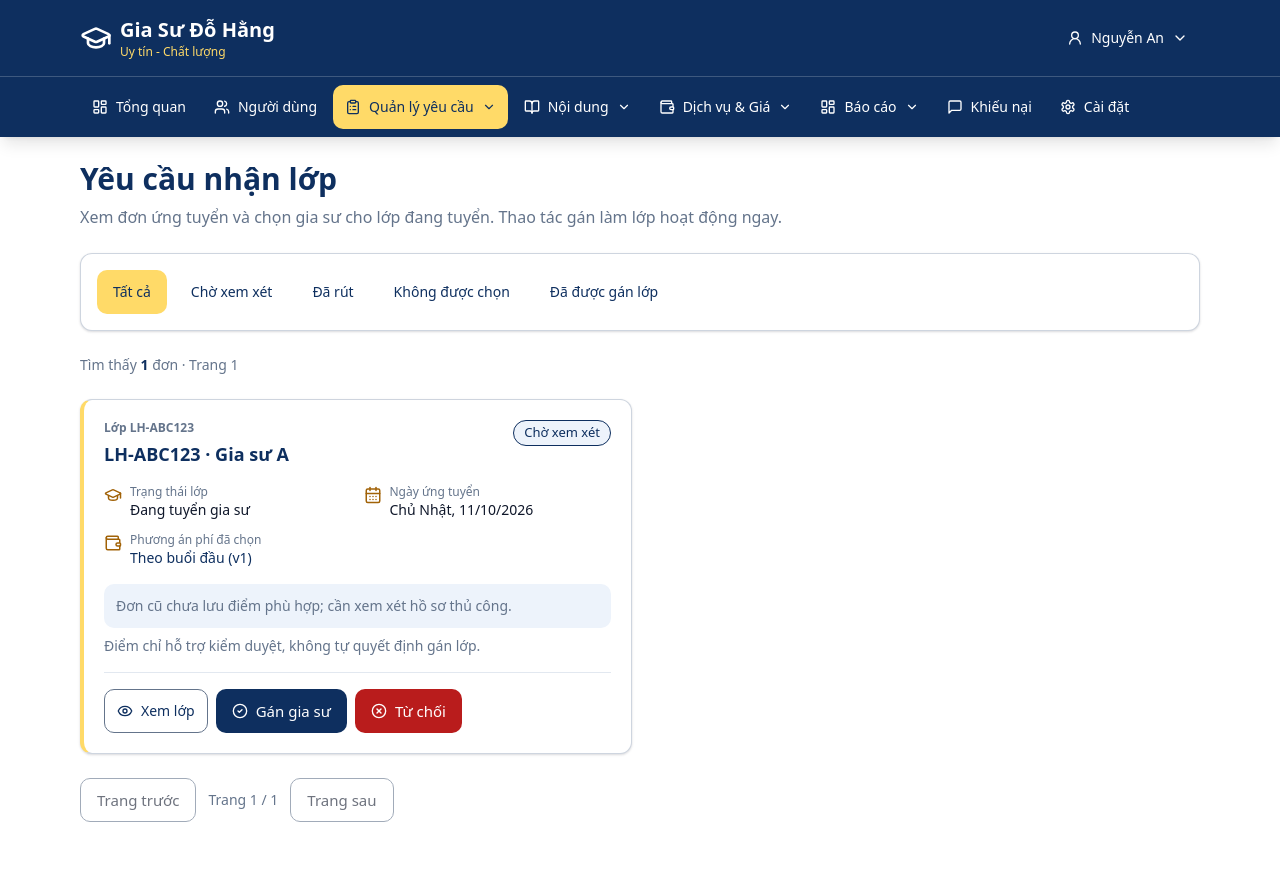
agreed tuition UI › requires a tuition amount and confirmation before assigning a tutor
Click the button "Gán gia sư".
click(281, 711)  # box [216,689,347,733]
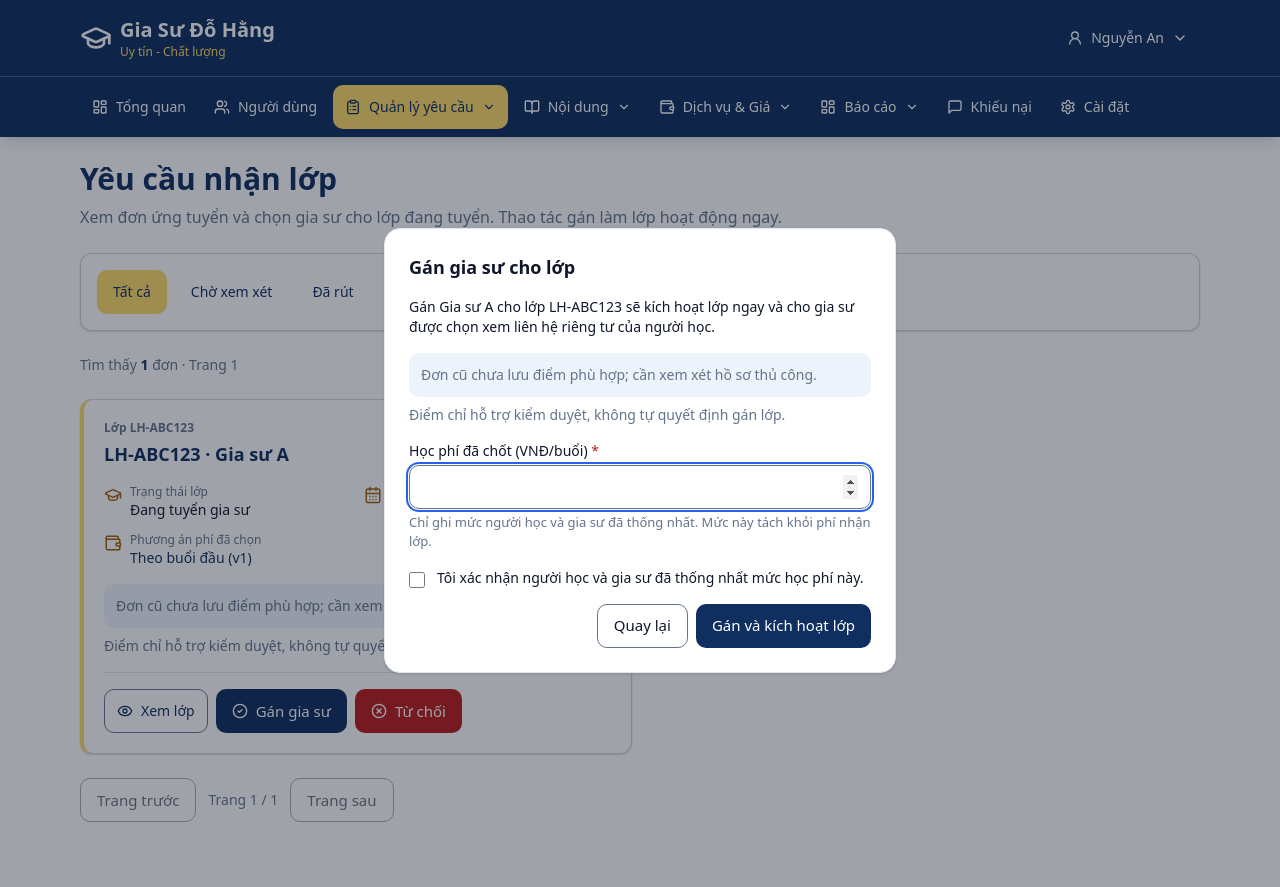
Click the button "Gán và kích hoạt lớp".
click(783, 626)  # box [696,604,871,648]
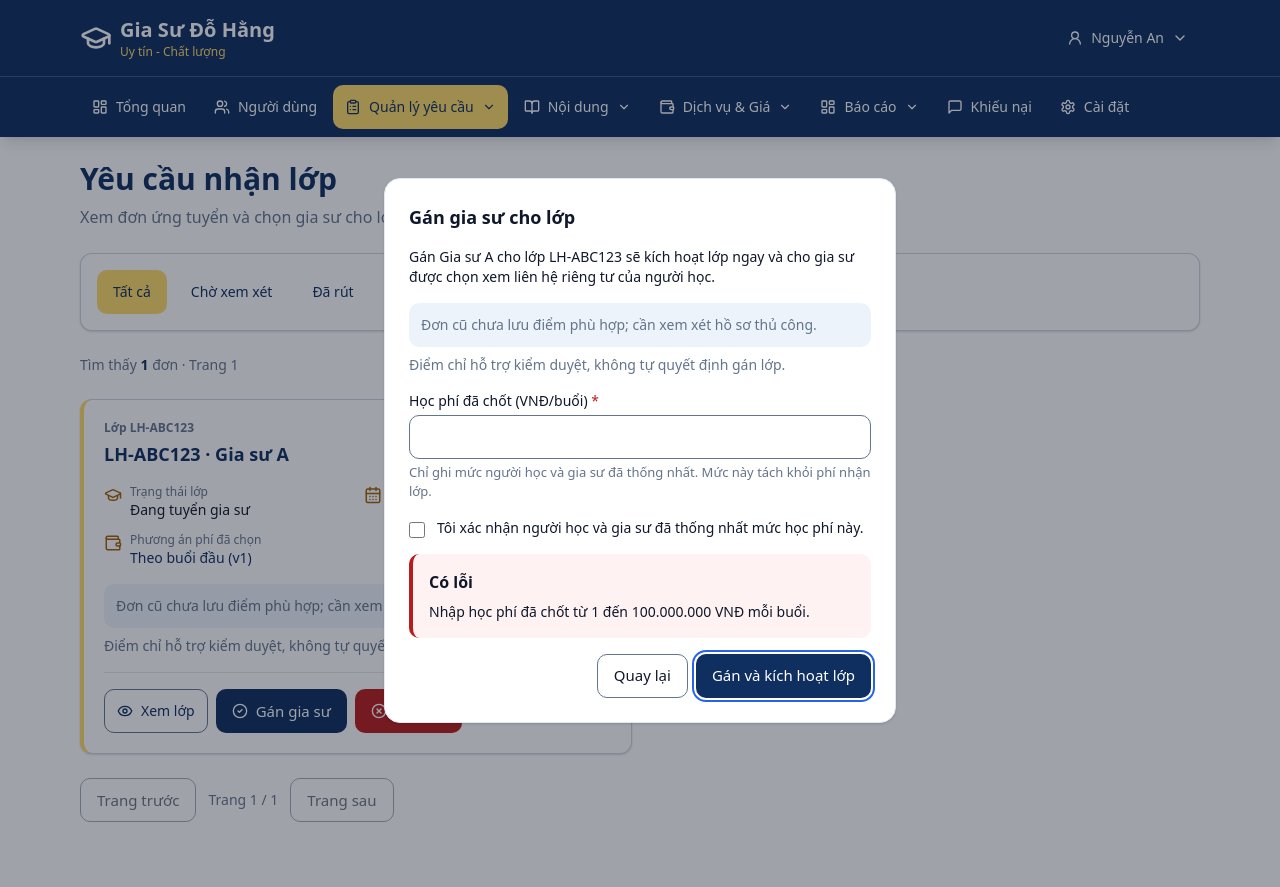
Type "250000" into the number field labelled "Học phí đã chốt (VNĐ/buổi) *".
click(640, 436); type("250000")  # box [409,414,871,458]
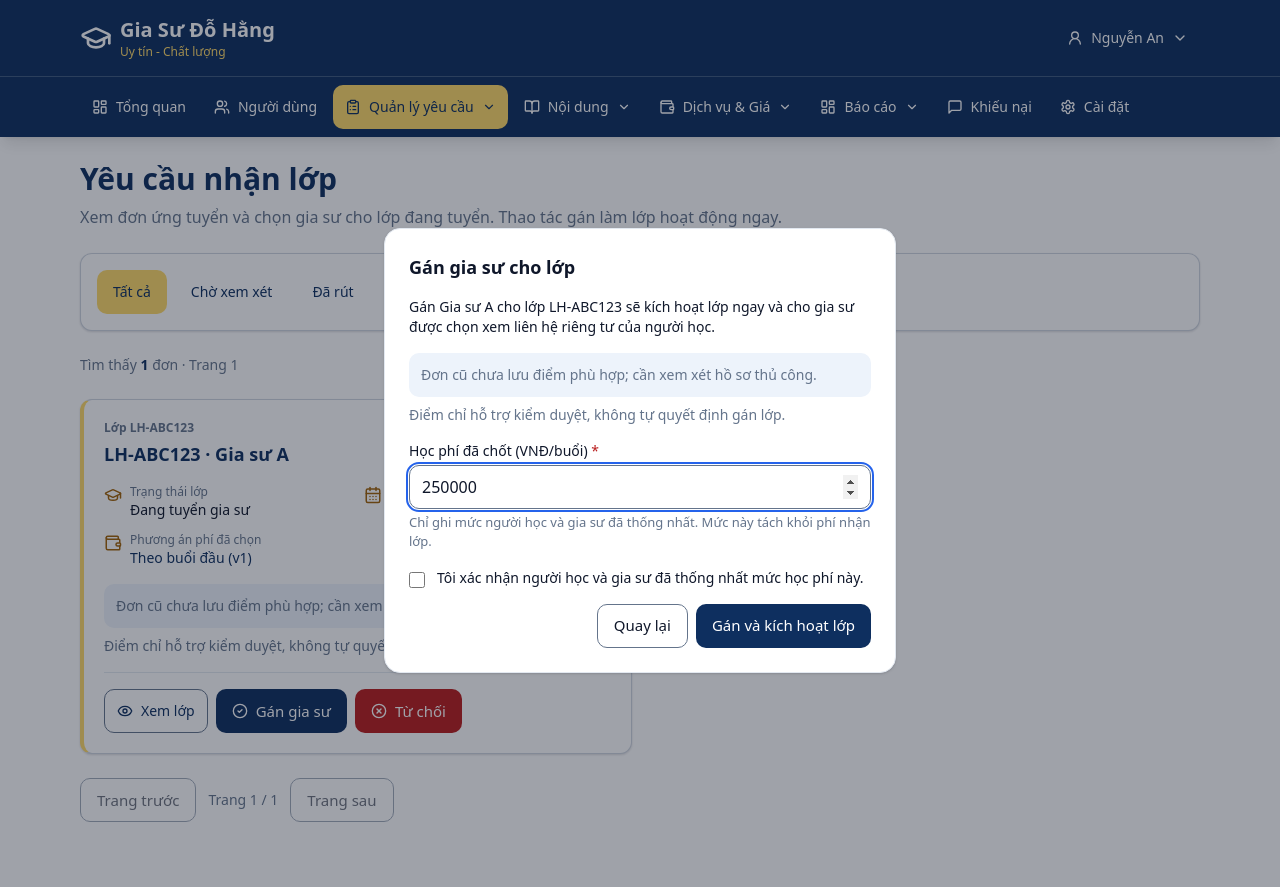
Click the button "Gán và kích hoạt lớp".
click(783, 626)  # box [696,604,871,648]
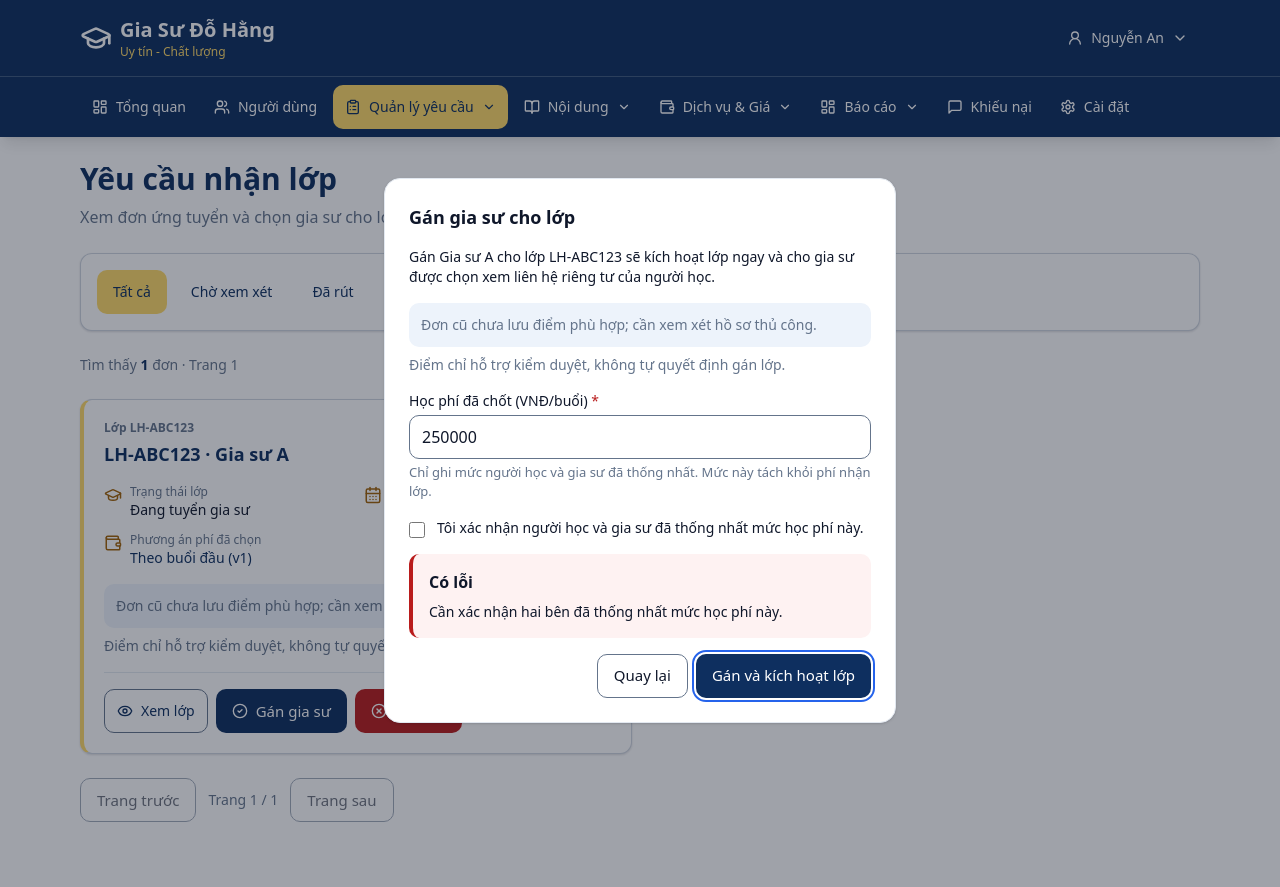
Click the checkbox labelled "Tôi xác nhận người học và gia sư đã thống nhất mức học phí này.".
click(417, 530)  # box [409,522,425,538]
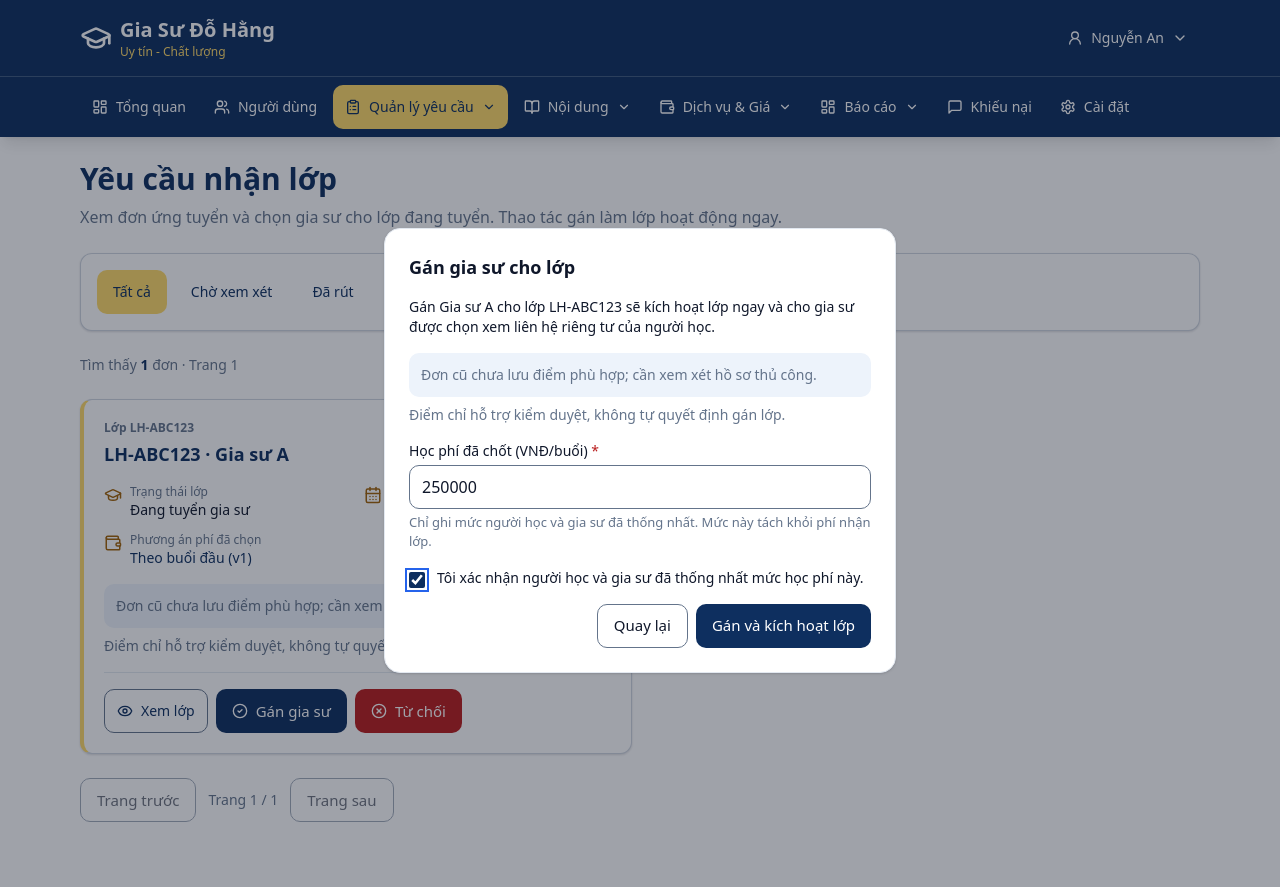
Click the button "Gán và kích hoạt lớp".
click(783, 626)  # box [696,604,871,648]
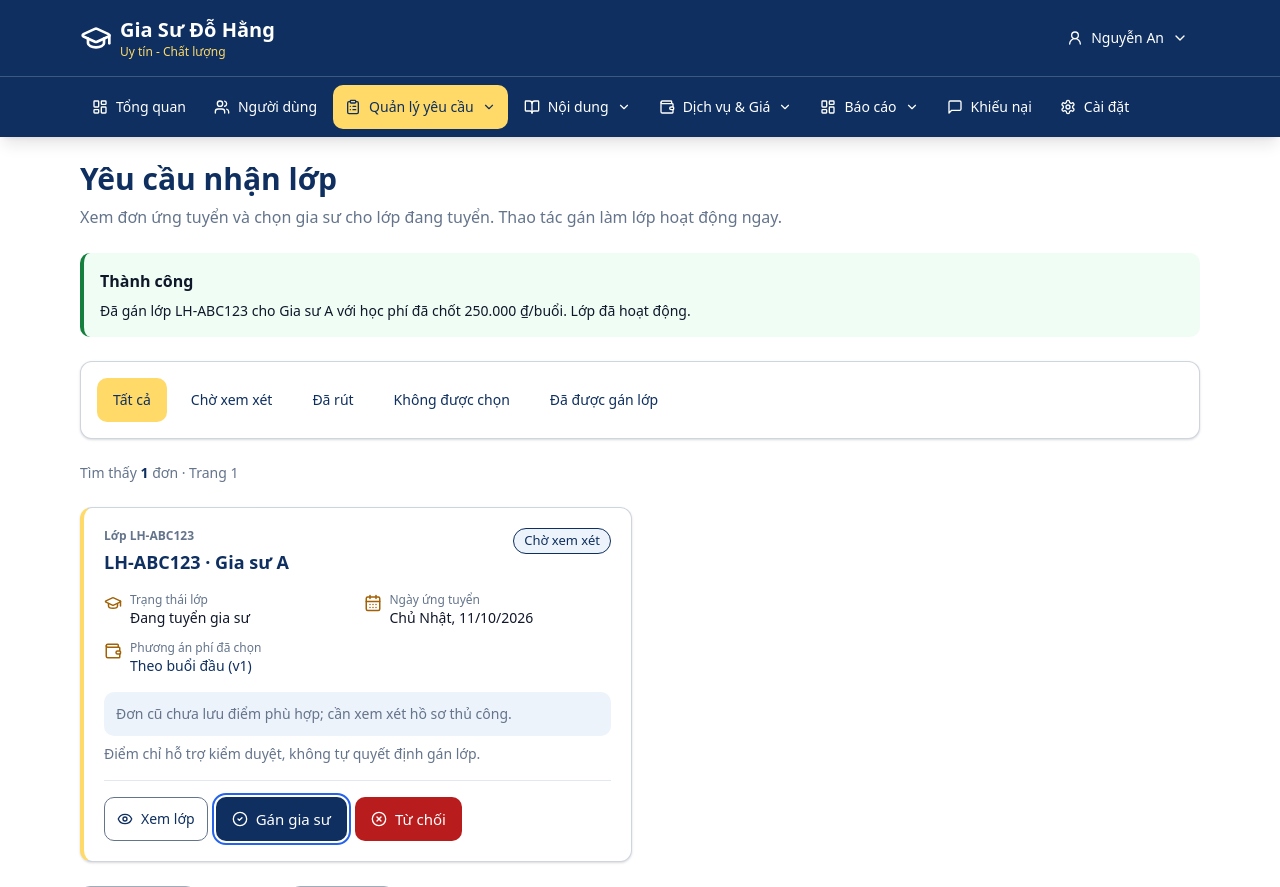
Check: the text "Đã gán lớp LH-ABC123" is shown, box [100,301,691,320]
